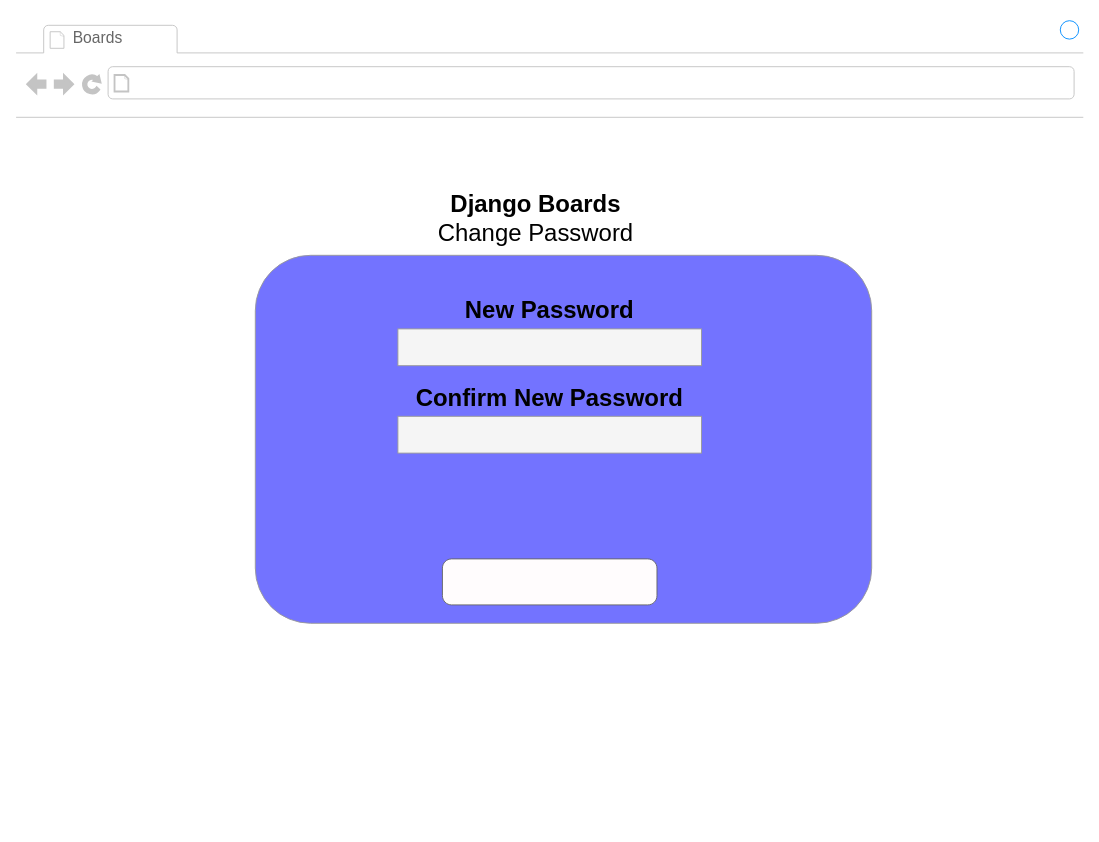
Some shapes in this 1099 by 842 pixel diagram are drawn without their labels. Each missing label, with the centre of its shape:
"https://www.example.com" belongs at [250,82].
"Send password reset email" belongs at [549,581].
